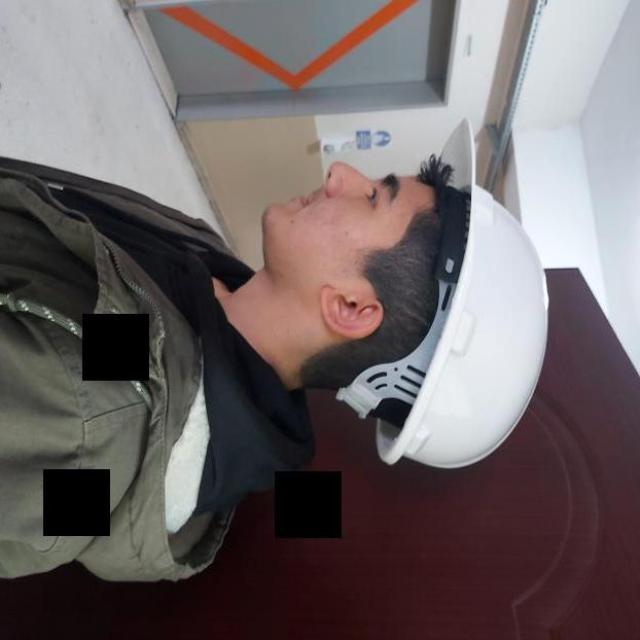white helmet: (400, 128, 566, 516)
